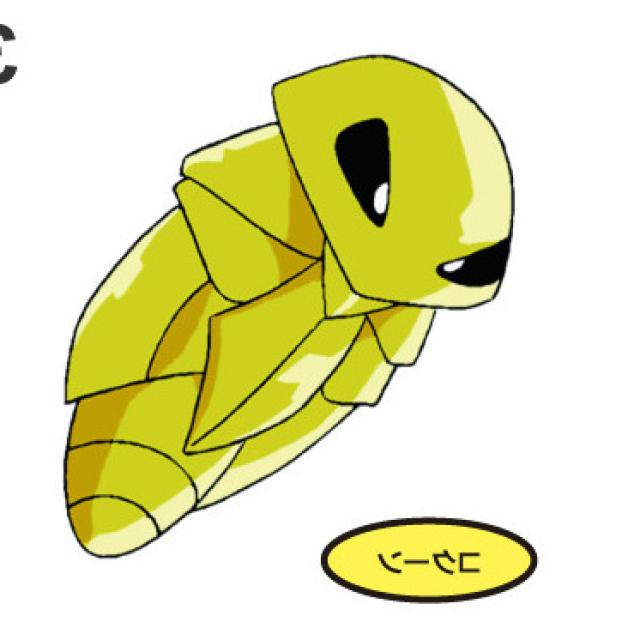Kakuna: (58, 45, 522, 572)
